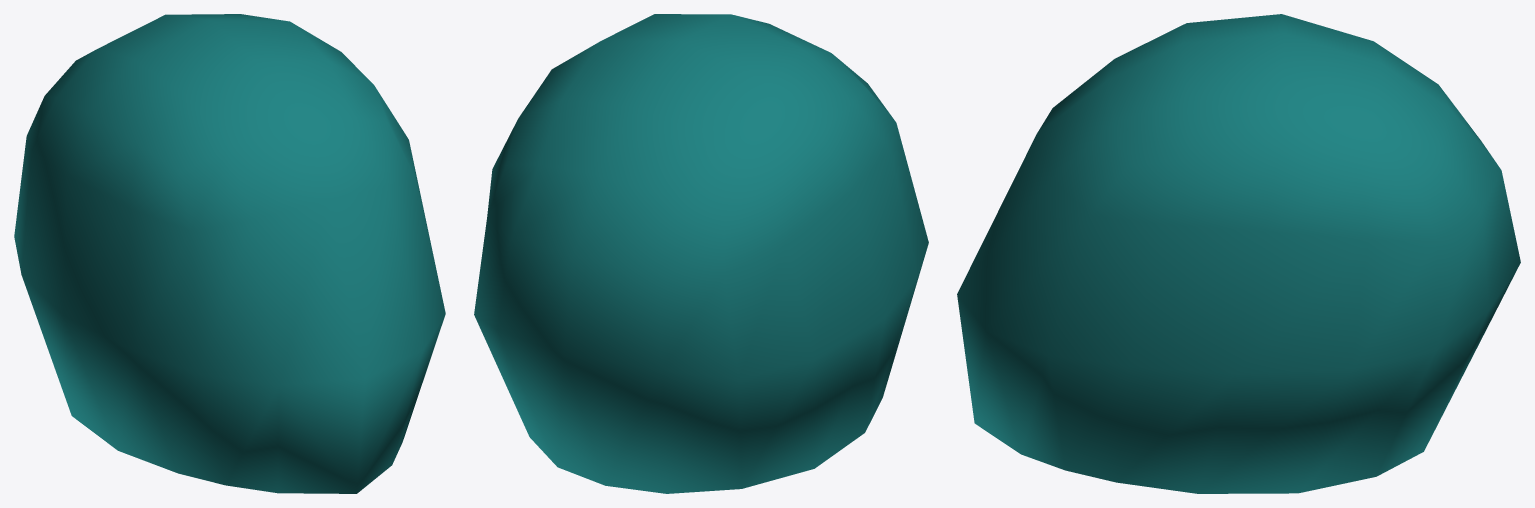
The model's file is motorcycle_helmet_collider.fbx.
3 renders of one model, left to right at view 1: azimuth 30°, elevation 25°; view 2: azimuth 150°, elevation 25°; view 3: azimuth 270°, elevation 25°, orthographic. The views are drawn at different scales.
Parts seen in each view (by area): view 1: motorcycle_helmet_collider; view 2: motorcycle_helmet_collider; view 3: motorcycle_helmet_collider.
Part boxes in pixels (bbox=[...]): motorcycle_helmet_collider: bbox=[14, 14, 445, 493]; motorcycle_helmet_collider: bbox=[474, 14, 928, 493]; motorcycle_helmet_collider: bbox=[957, 14, 1520, 493].
Size of the model in its own units: 33.02 by 34.09 by 44.53.
